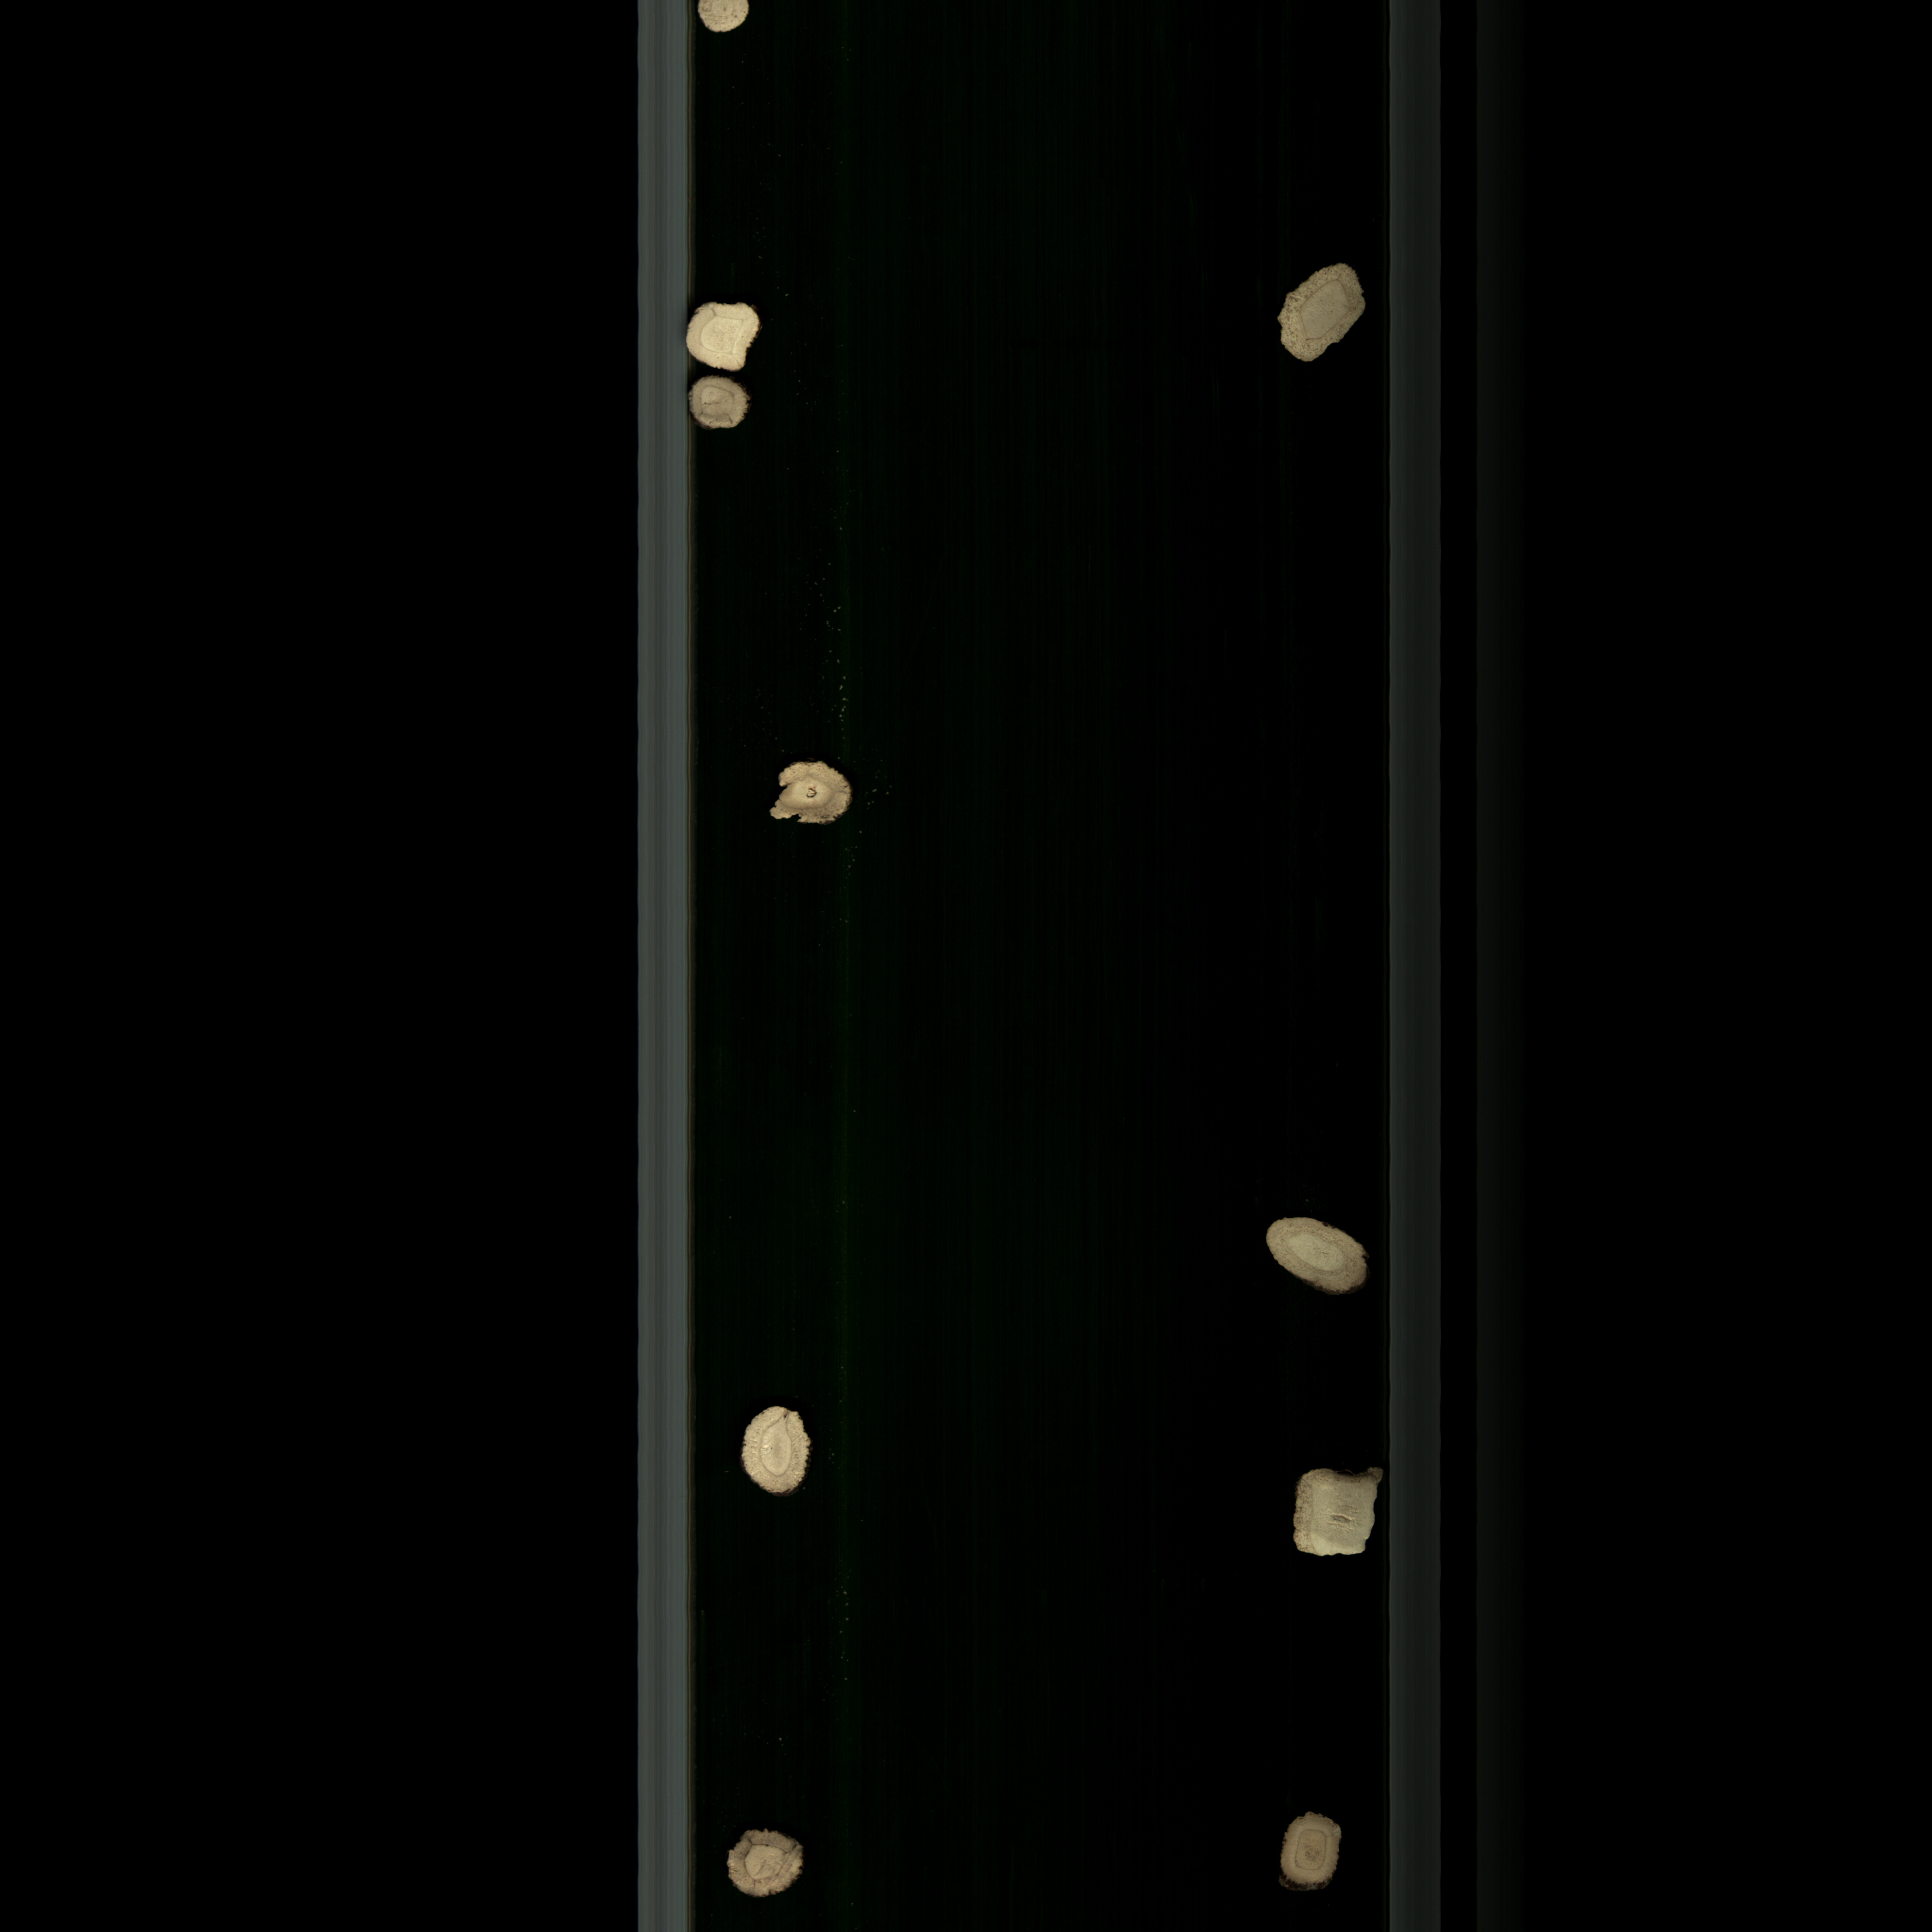debris: (1290, 1456, 1387, 1578)
distortion: (1253, 1210, 1378, 1304), (1277, 258, 1366, 366), (718, 1821, 816, 1905), (681, 294, 784, 373)
moldy: (755, 757, 876, 837), (679, 368, 766, 446)
